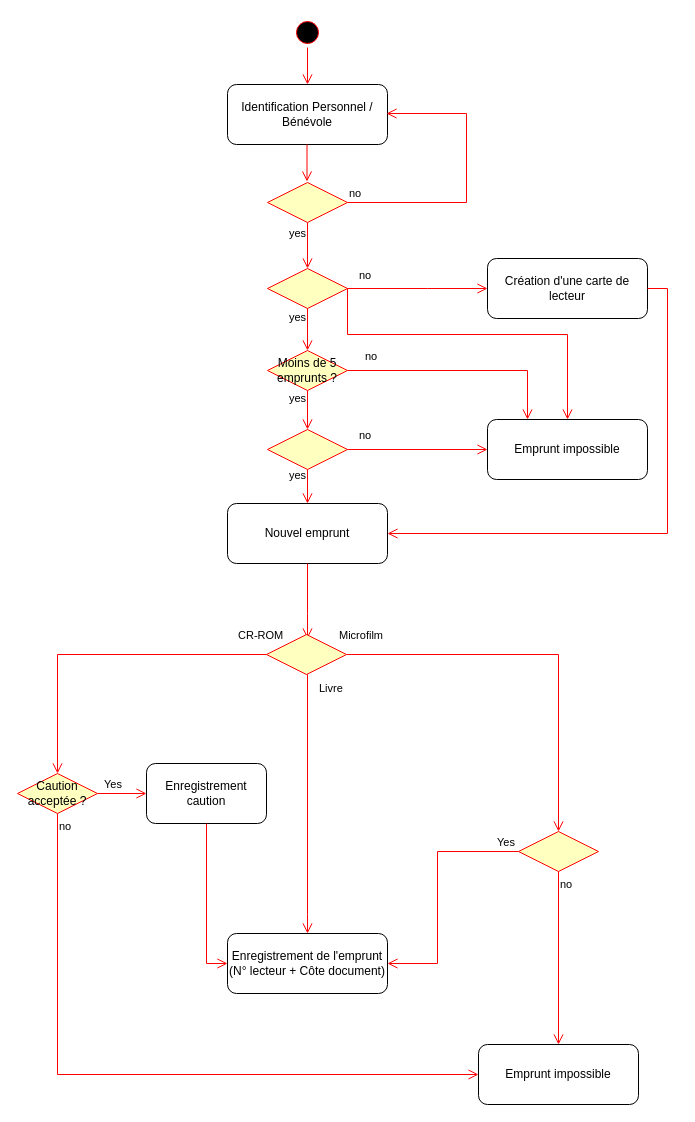
Some shapes in this 695 by 1122 pixel diagram are drawn without their labels. The centre of each missing label's shape, as x and y in pixels:
"Article disponible ?" belongs at (x=307, y=449).
"Carte de lecteur ?" belongs at (x=307, y=288).
"Ecran dispo ?" belongs at (x=558, y=851).
"Identification OK ?" belongs at (x=307, y=202).
"Type de document ?" belongs at (x=306, y=654).
